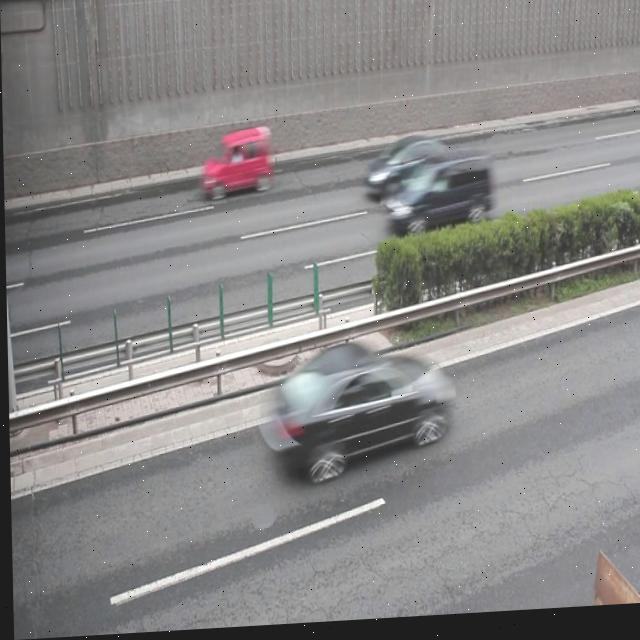car: (264, 338, 449, 487), (362, 137, 449, 207), (199, 128, 275, 205)
truck: (384, 154, 496, 240)
